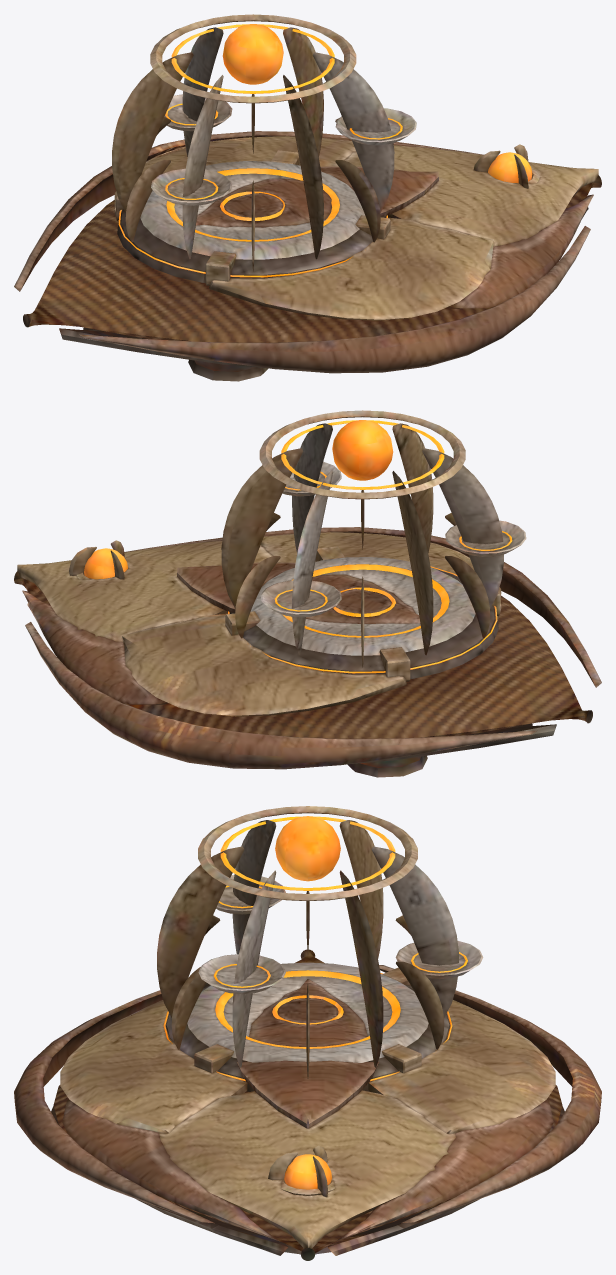
Rendered from air_base_packed.glb.
The picture shows the model from 3 angles, top to bottom: view 1: azimuth 30°, elevation 25°; view 2: azimuth 150°, elevation 25°; view 3: azimuth 270°, elevation 25°; orthographic projection. The views are drawn at different scales.
Visible parts, largest first — view 1: Hull; view 2: Hull; view 3: Hull.
Boxes of the visible parts, x1=… form: Hull: x1=14, y1=14, x2=601, y2=381; Hull: x1=14, y1=410, x2=601, y2=777; Hull: x1=14, y1=806, x2=601, y2=1260.
Size of the model in its own units: 5.8 by 2.93 by 4.83.
1 material, 1 textured.
